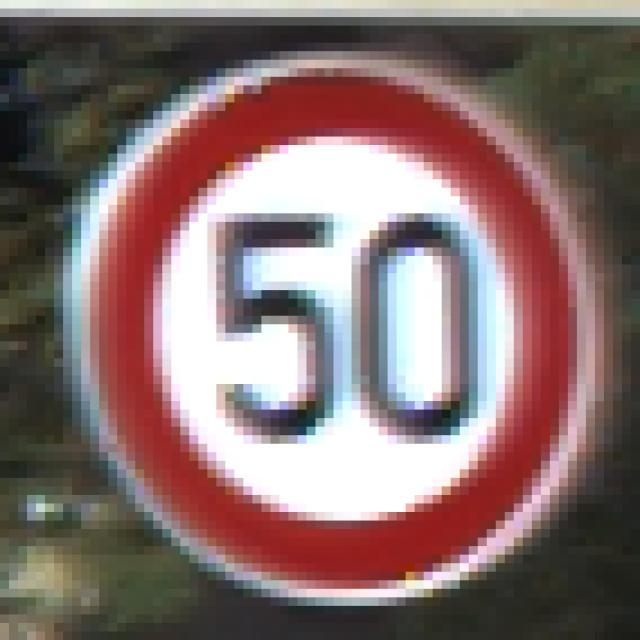speed limit 50: (59, 45, 611, 610)
